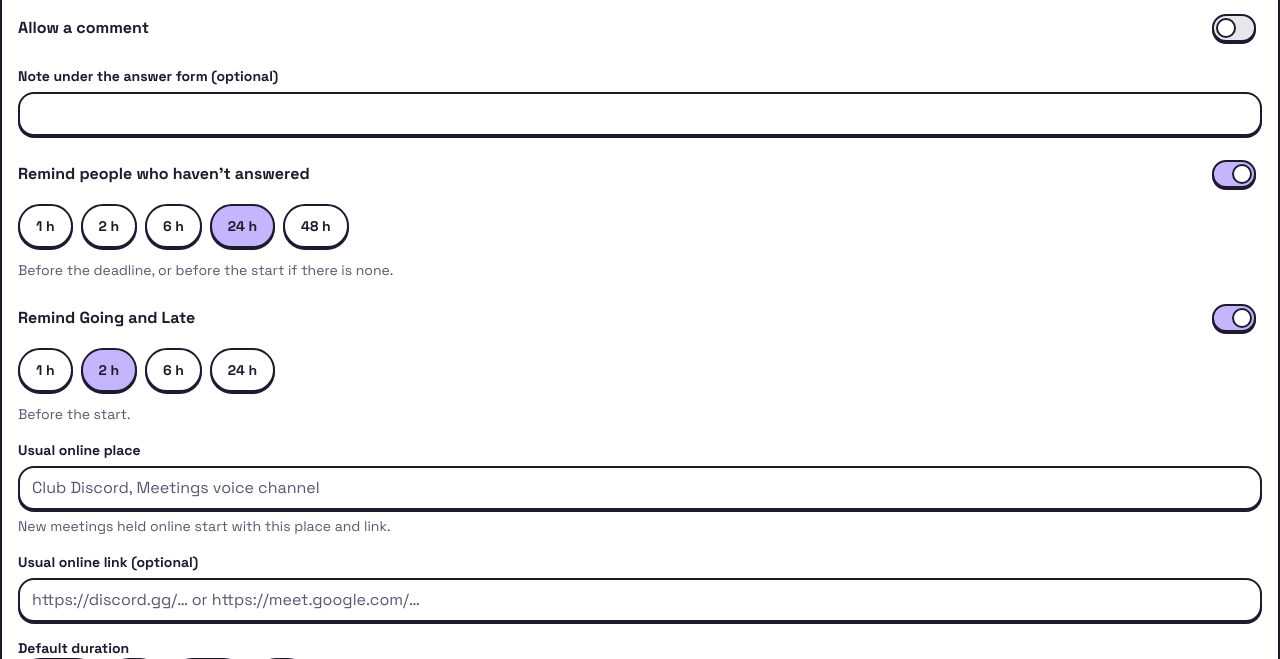
Scenario: MeetingDefaultsSection › refuses a link that is not a web address
The width and height of the screenshot is (1280, 659).
(page scrolled)
Type "discord.gg/abc" into the field labelled "Usual online link (optional)". click: (640,600)
box: [18,578,1262,622]
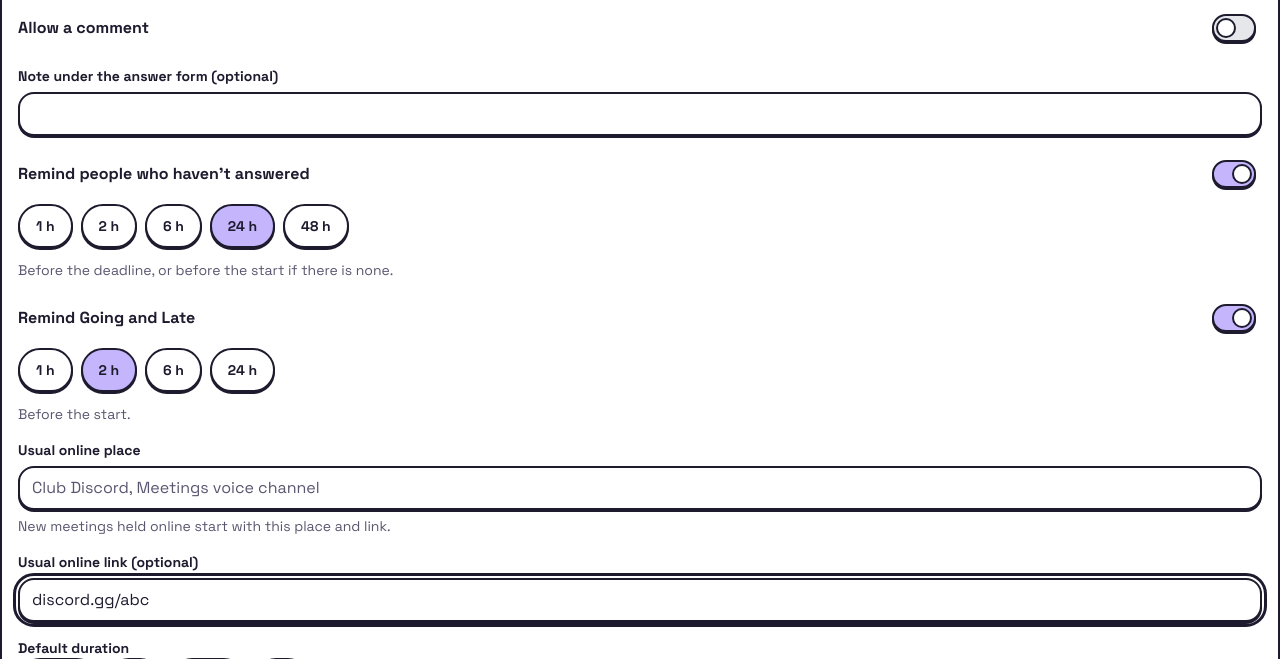
Press Tab
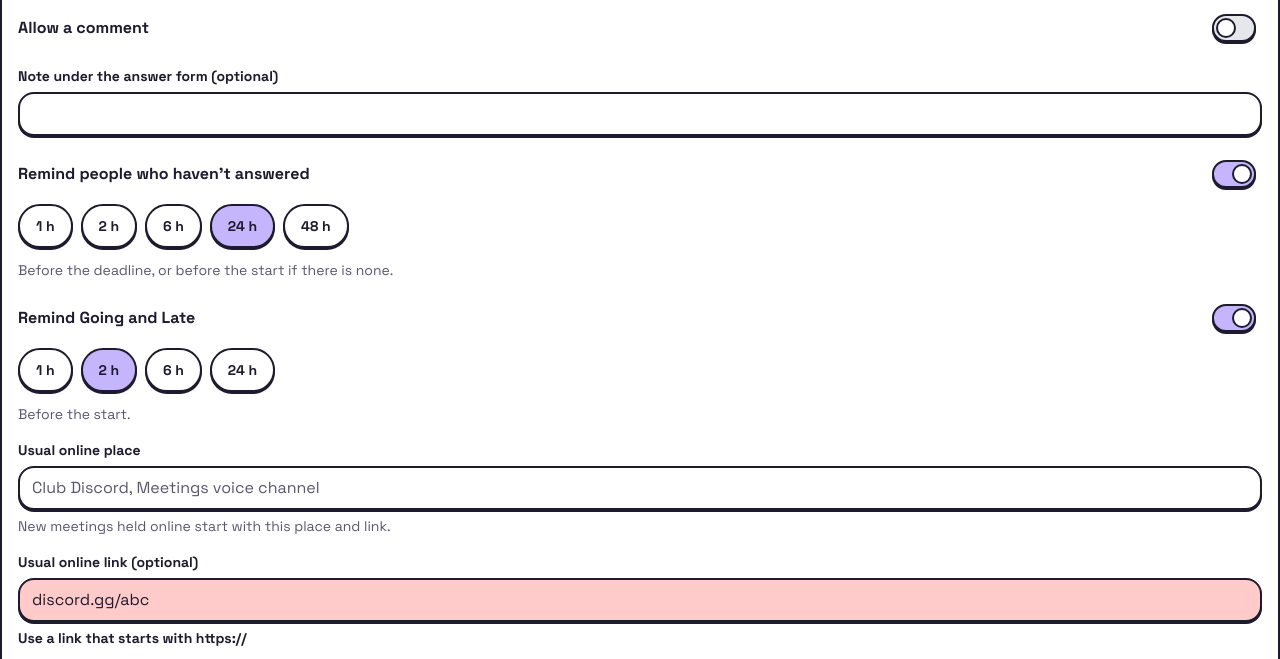
Expected: the text "Use a link that starts with https://" is shown, [18,629,247,647]
